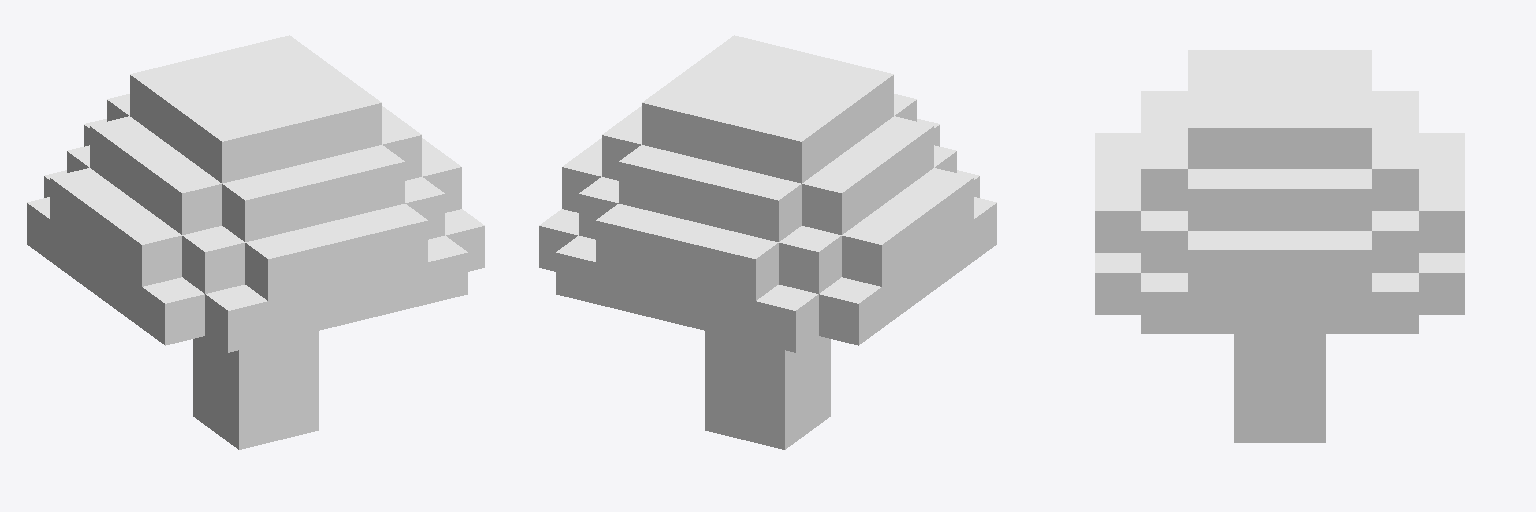
The model's file is mushrooms-0-shroom2.obj.
3 renders of one model, left to right at view 1: azimuth 30°, elevation 25°; view 2: azimuth 150°, elevation 25°; view 3: azimuth 270°, elevation 25°, orthographic.
Parts seen in each view (by area): view 1: shroom2; view 2: shroom2; view 3: shroom2.
Part boxes in pixels (x1,y1,x2,y2): shroom2: (27,35,484,449); shroom2: (539,35,996,449); shroom2: (1095,50,1464,442).
Size of the model in its own units: 0.8 by 0.8 by 0.8.